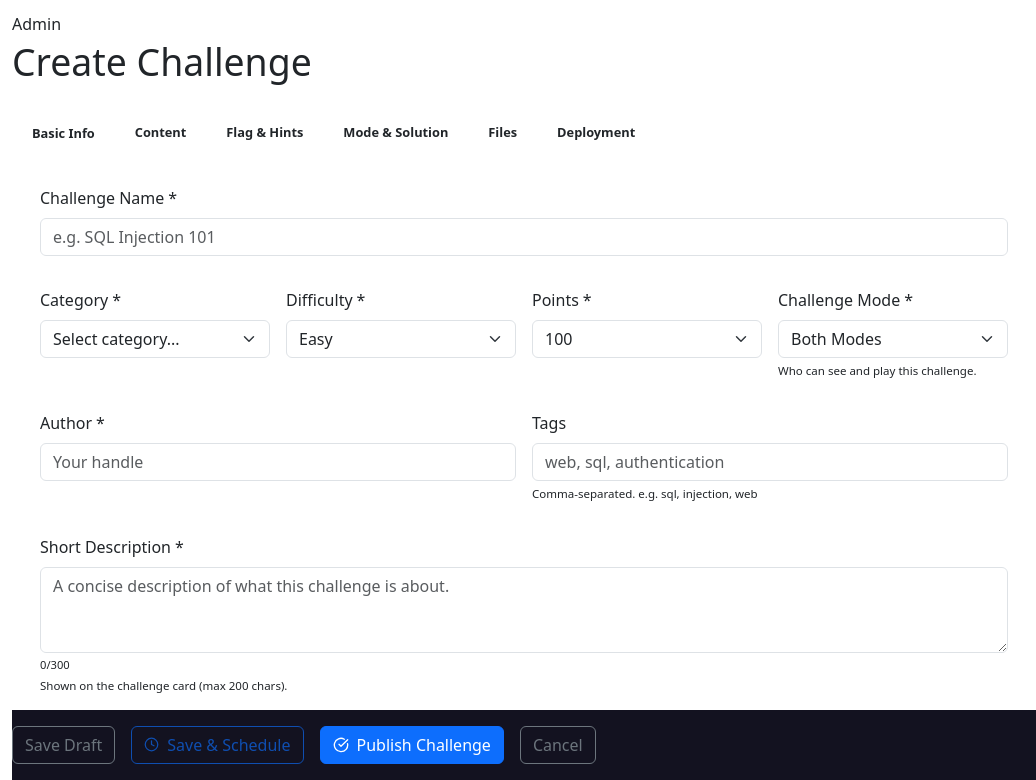
Test: Phase 4E admin mode content authoring › invalid flag format is rejected before submission
Expected: the button "Basic Info" is shown, [12, 109, 115, 158]
Type "New Challenge" into the field with placeholder "e.g. SQL Injection 101" at (524, 237), box [40, 218, 1008, 256]
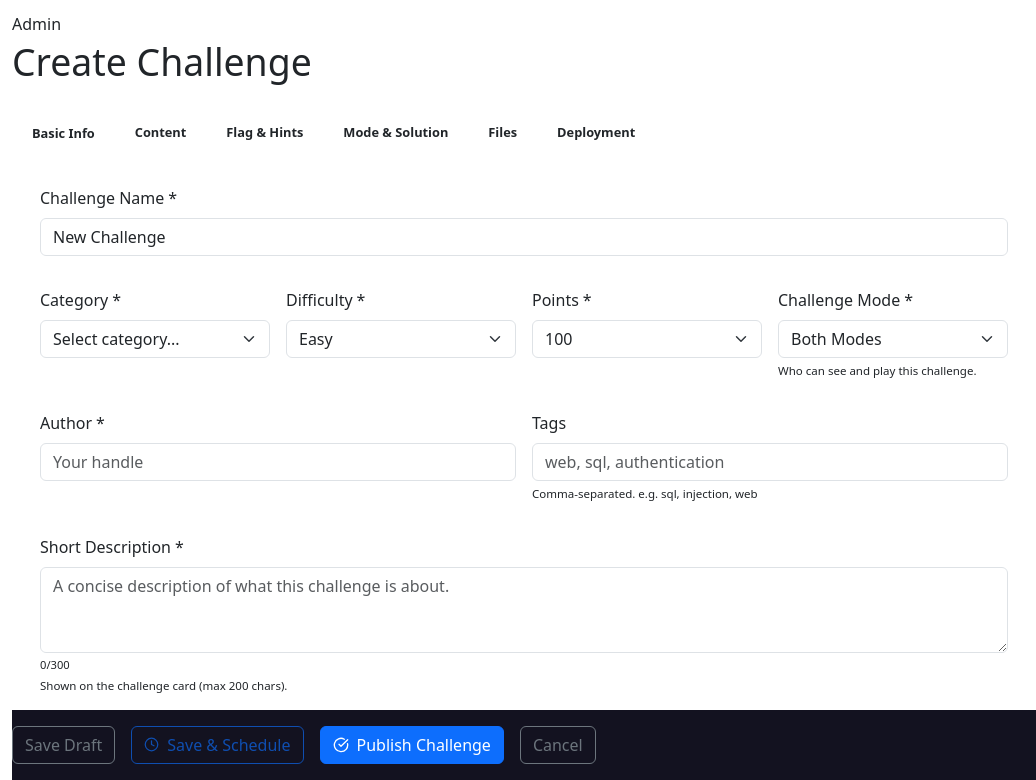
Type "Desc" into the text box with placeholder "A concise description of what this challenge is about." at (524, 610), box [40, 566, 1008, 652]
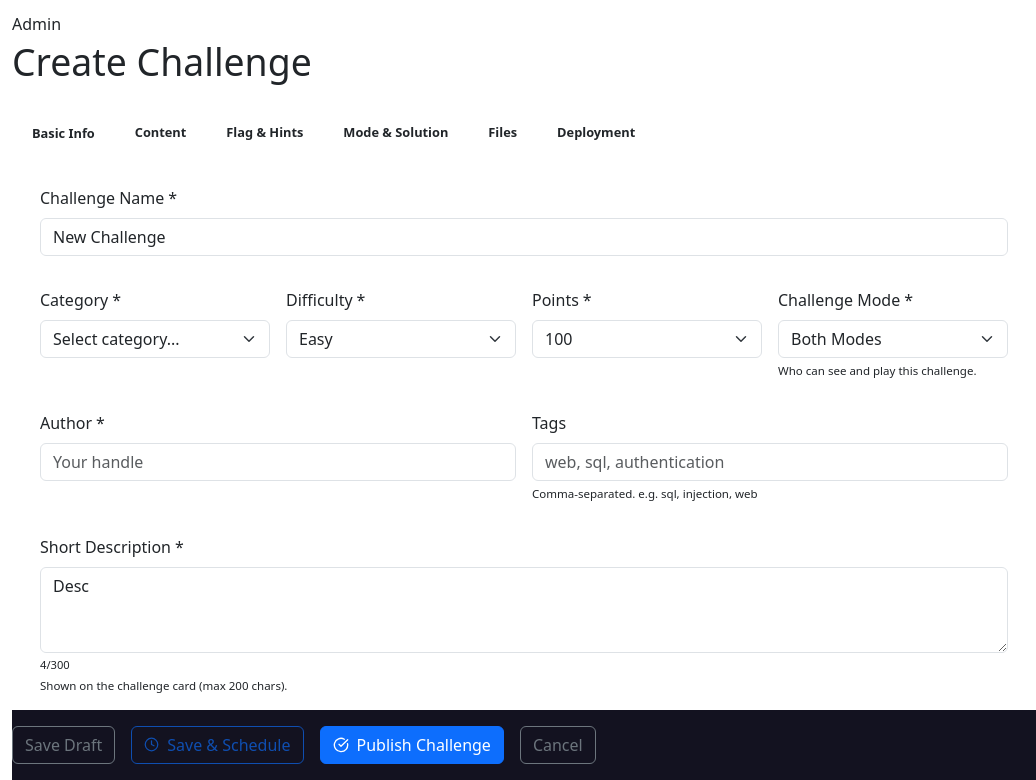
Type "Author" into the field with placeholder "Your handle" at (278, 462), box [40, 443, 516, 481]
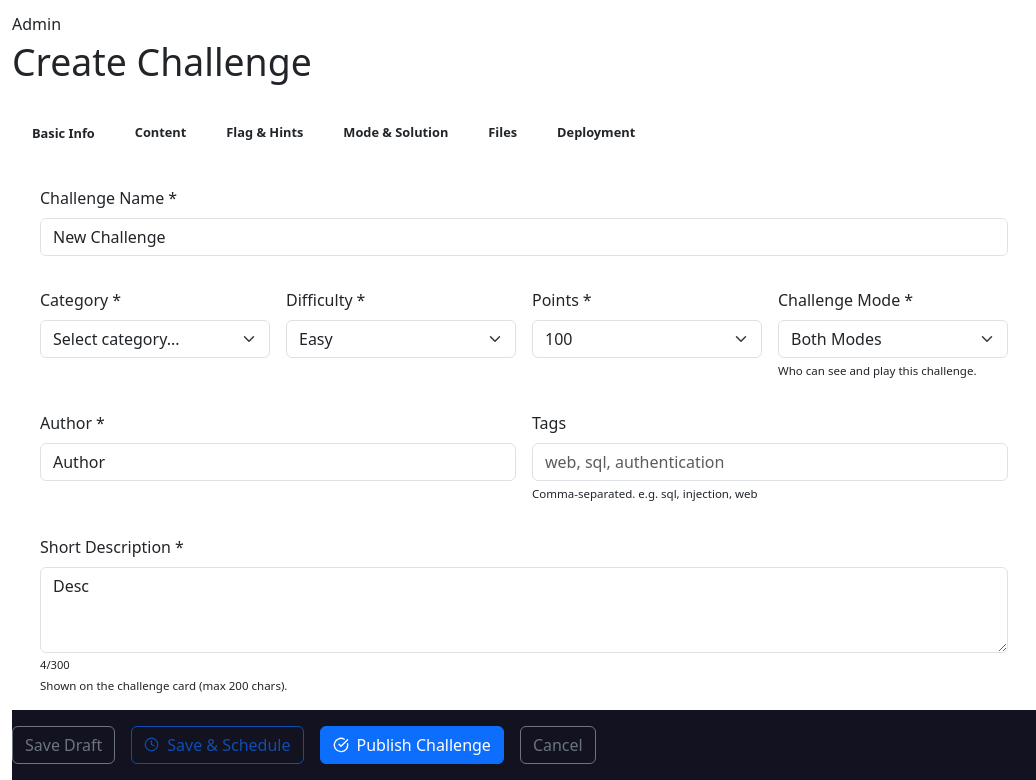
Click the button "Flag & Hints" at (265, 133), box [206, 109, 323, 158]
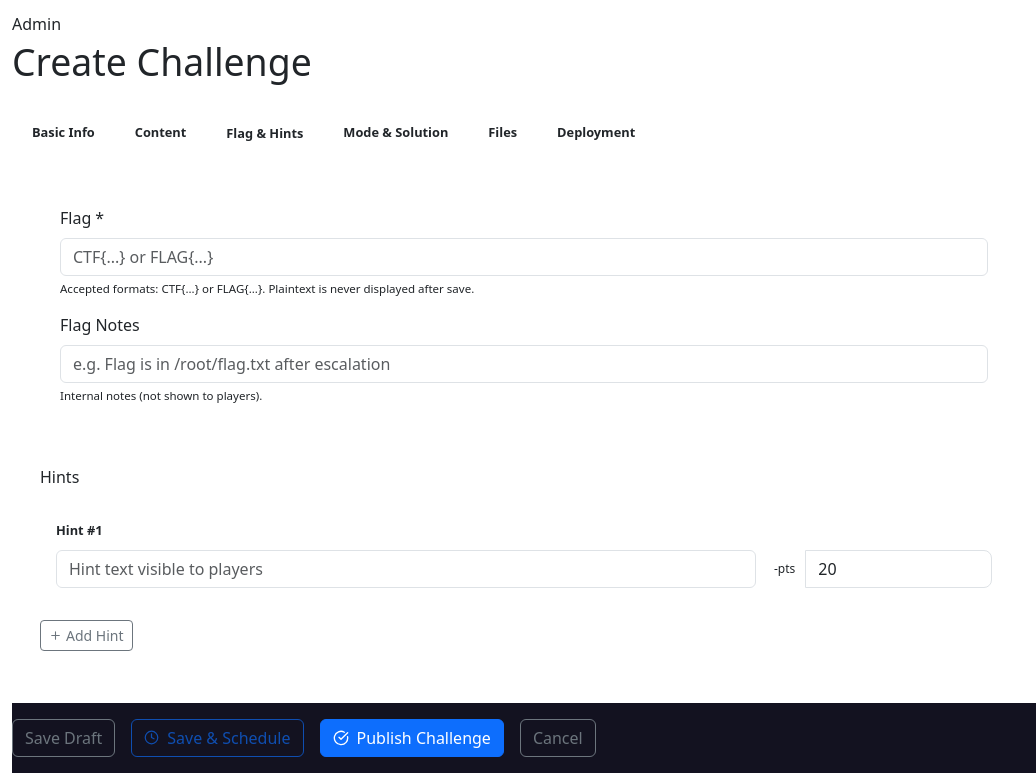
Type "bad_flag" into the field with placeholder "CTF{...} or FLAG{...}" at (524, 257), box [60, 238, 988, 276]
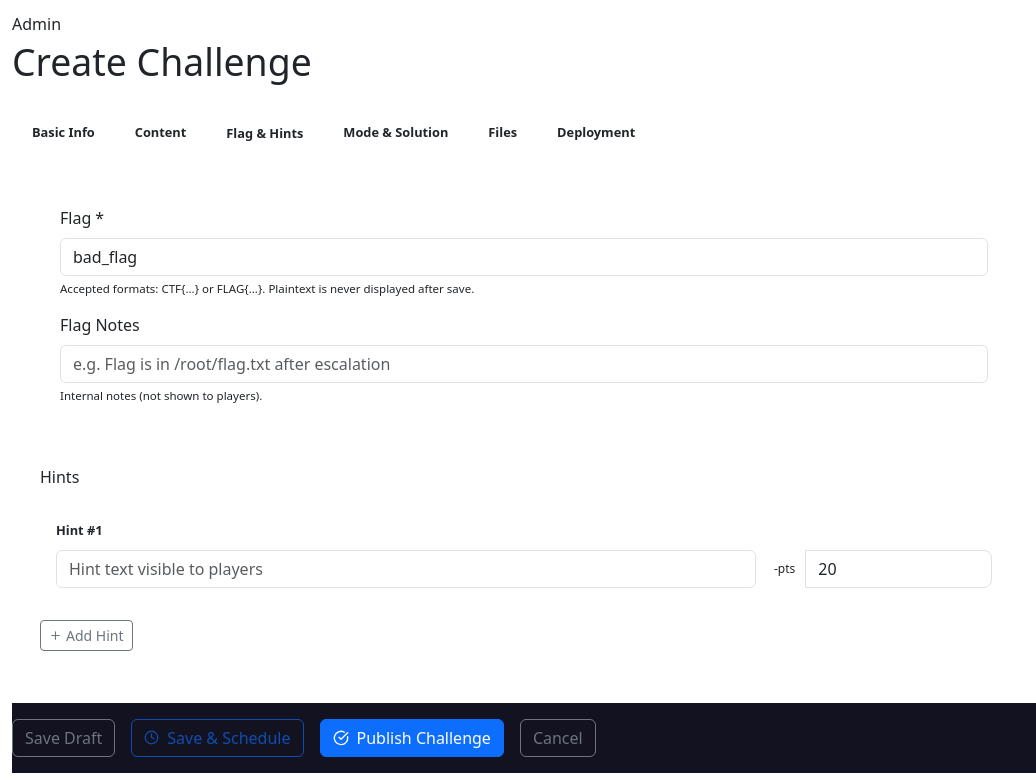
Click the button "Publish Challenge" at (412, 738), box [320, 719, 504, 757]
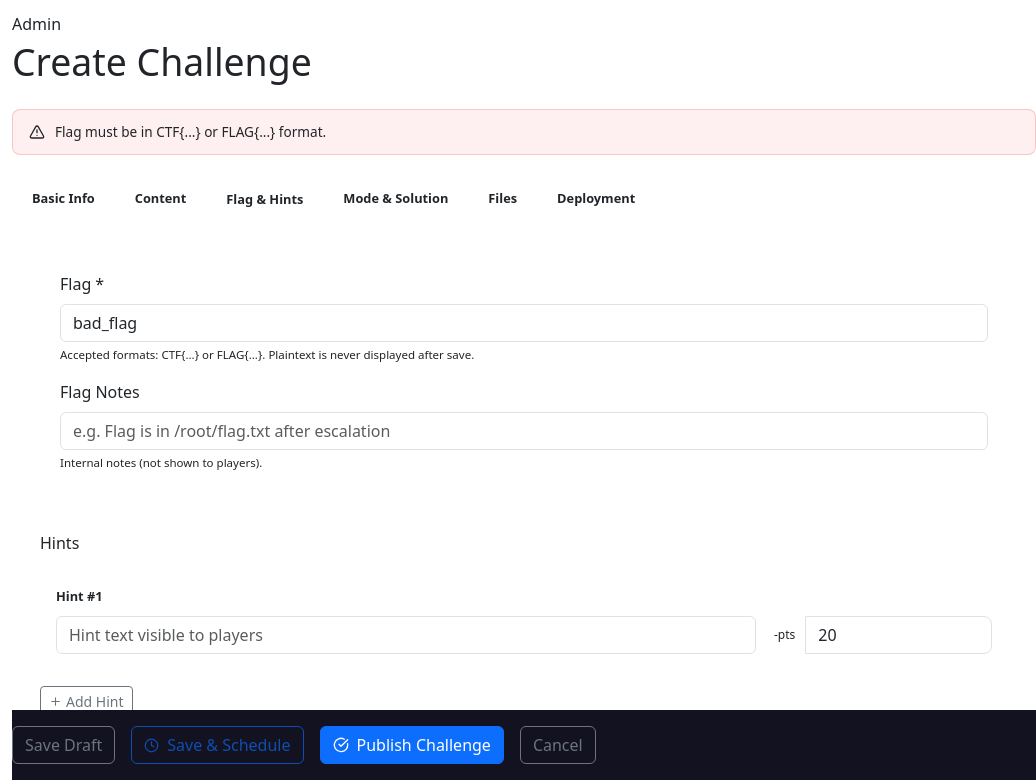
Expected: the text "Flag must be in CTF{...} or FLAG{...} format." is shown, [12, 109, 1035, 155]
